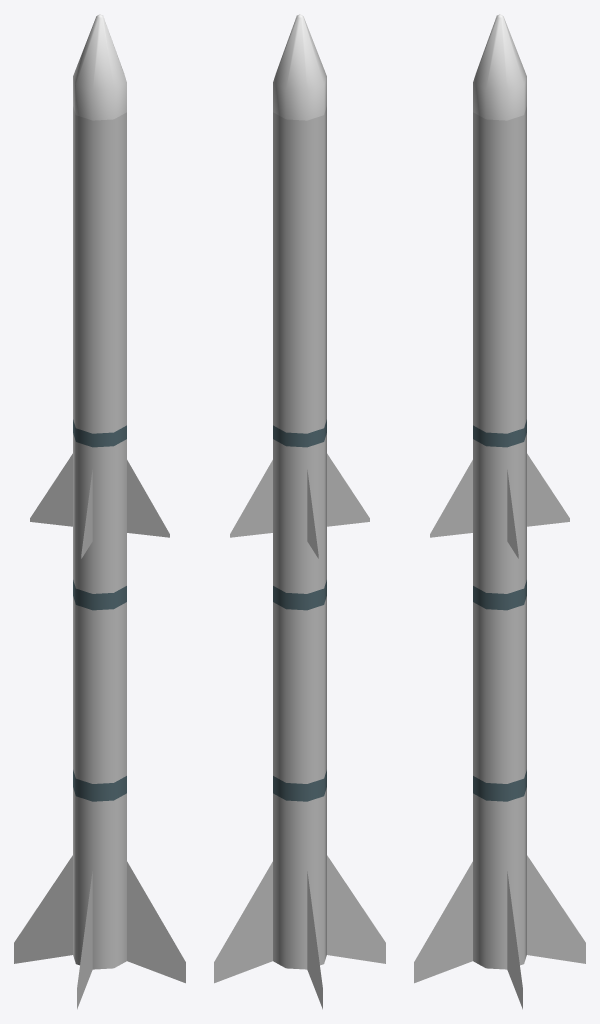
The model's file is aim-120-amraam.glb.
3 views of the same model, side by side, from view 1: azimuth 30°, elevation 25°; view 2: azimuth 150°, elevation 25°; view 3: azimuth 330°, elevation 25° (orthographic).
Parts seen in each view (by area): view 1: AIM-120 Amraam; view 2: AIM-120 Amraam; view 3: AIM-120 Amraam.
Boxes of the visible parts, left/top/right/bottom form: AIM-120 Amraam: left=14, top=14, right=185, bottom=1009; AIM-120 Amraam: left=214, top=14, right=385, bottom=1009; AIM-120 Amraam: left=414, top=14, right=585, bottom=1009.
Size of the model in its own units: 0.285 by 2.4 by 0.285.
